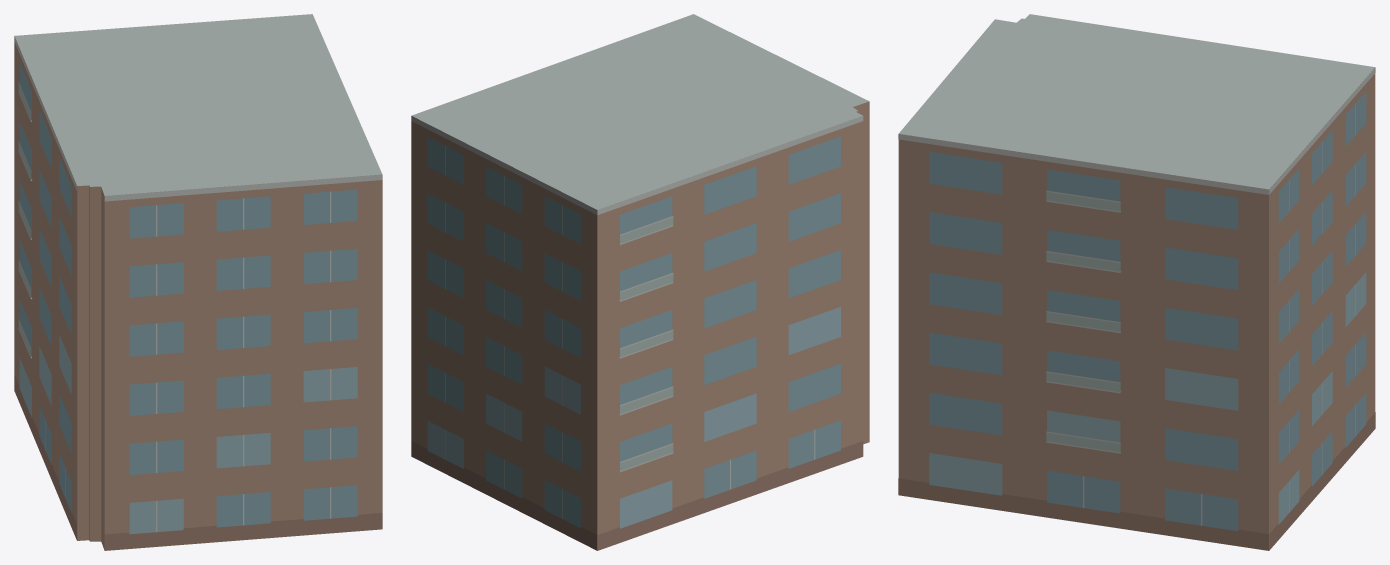
The model's file is survey-upis-32884234.glb.
3 views of the same model, side by side, from view 1: azimuth 30°, elevation 25°; view 2: azimuth 150°, elevation 25°; view 3: azimuth 270°, elevation 25° (orthographic). The views are drawn at different scales.
Parts seen in each view (by area): view 1: survey-upis-32884234.tmp; view 2: survey-upis-32884234.tmp; view 3: survey-upis-32884234.tmp.
Part boxes in pixels (x1,y1,x2,y2): survey-upis-32884234.tmp: (14,14,382,550); survey-upis-32884234.tmp: (411,14,869,550); survey-upis-32884234.tmp: (898,14,1375,550).
Bounding box in the file's own units: 16.46 × 15.8 × 18.91.
